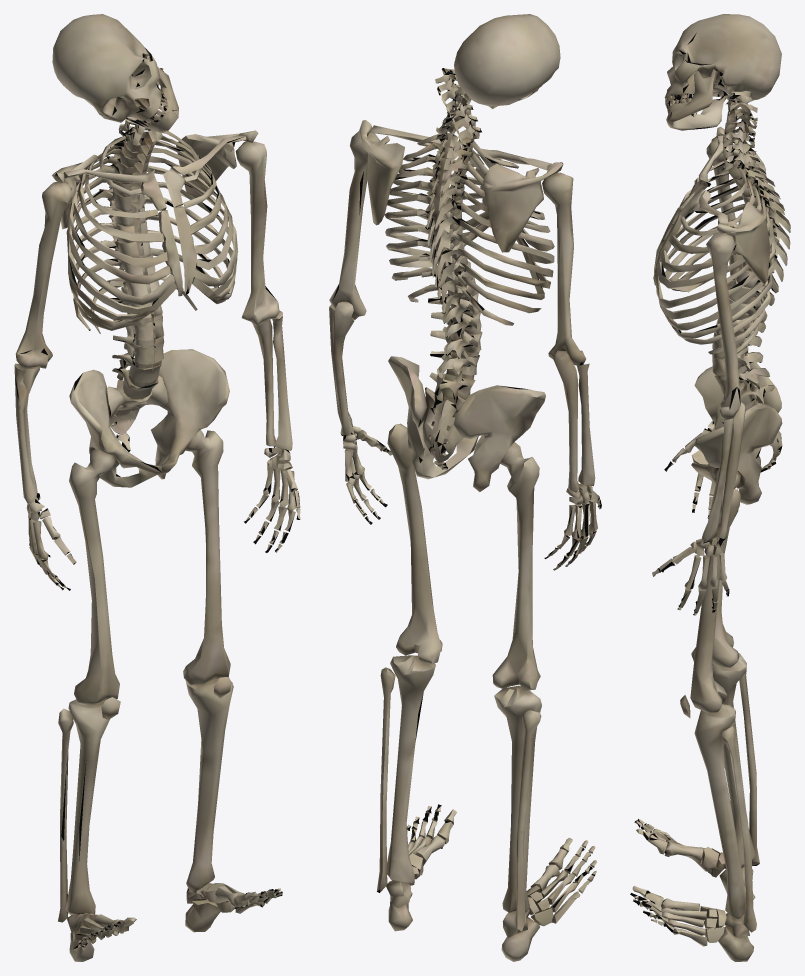
The model's file is skeleton_noose.glb.
The picture shows the model from 3 angles, left to right: view 1: azimuth 30°, elevation 25°; view 2: azimuth 150°, elevation 25°; view 3: azimuth 270°, elevation 25°; orthographic projection. The views are drawn at different scales.
Parts seen in each view (by area): view 1: skeleton_noose; view 2: skeleton_noose; view 3: skeleton_noose.
Part boxes in pixels (<box>): skeleton_noose: <box>14,14,300,961</box>; skeleton_noose: <box>329,14,601,961</box>; skeleton_noose: <box>630,14,790,961</box>.
Bounding box in the file's own units: 0.5077 × 1.73 × 0.2815.
Materials: 1 (1 with a texture image).
